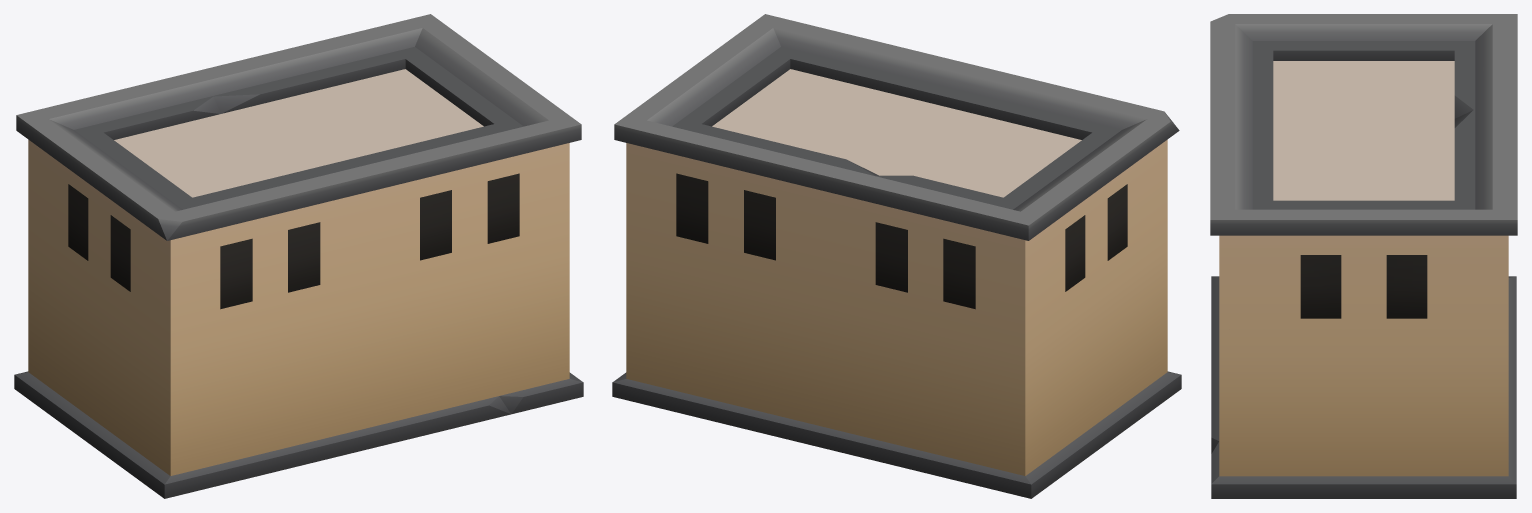
File: Fort Room 02.fbx
The picture shows the model from 3 angles, left to right: view 1: azimuth 30°, elevation 25°; view 2: azimuth 150°, elevation 25°; view 3: azimuth 270°, elevation 25°; orthographic projection.
Visible parts, largest first — view 1: Fort Room 02 high, Fort Room 02, Fort Room 02 low; view 2: Fort Room 02 high, Fort Room 02 low, Fort Room 02; view 3: Fort Room 02 high, Fort Room 02 low, Fort Room 02.
Part boxes in pixels (x1=…): Fort Room 02 high: x1=14, y1=14, x2=583, y2=498; Fort Room 02: x1=17, y1=47, x2=577, y2=475; Fort Room 02 low: x1=28, y1=28, x2=569, y2=475; Fort Room 02 high: x1=612, y1=14, x2=1181, y2=498; Fort Room 02 low: x1=626, y1=18, x2=1167, y2=475; Fort Room 02: x1=642, y1=16, x2=1167, y2=356; Fort Room 02 high: x1=1210, y1=14, x2=1517, y2=498; Fort Room 02 low: x1=1210, y1=14, x2=1508, y2=476; Fort Room 02: x1=1211, y1=14, x2=1515, y2=482.
Bounding box in the file's own units: 10.61 × 6.61 × 6.62.
Materials: 1 (1 with a texture image).
